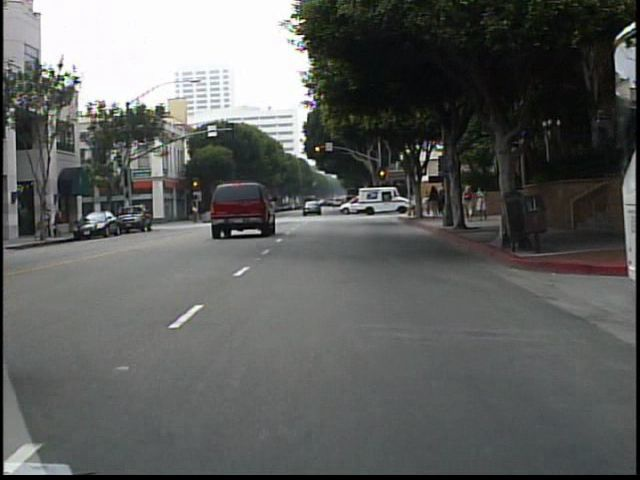person: (474, 181, 488, 223), (462, 183, 473, 222)
